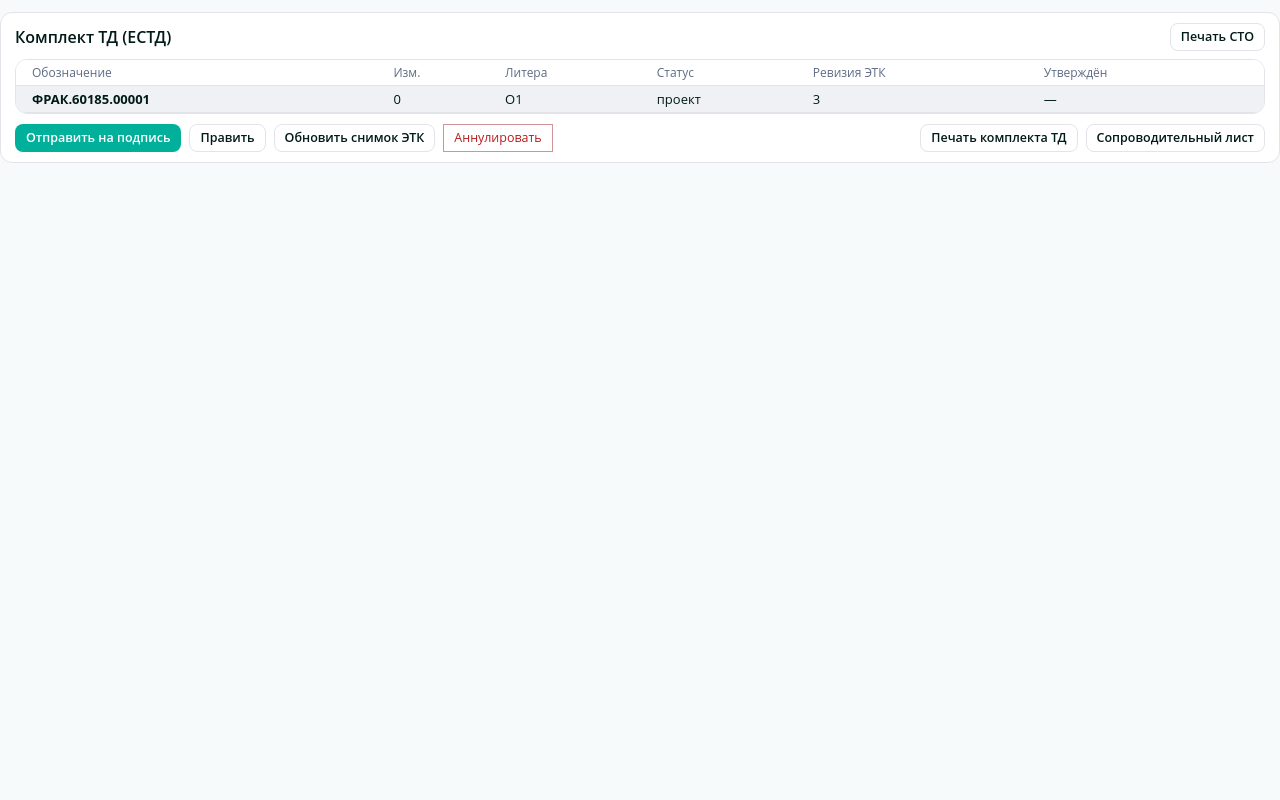
the form rejects a normcontroller who is also the developer
Click the button "Править" at (228,138), box [189,124,266,152]
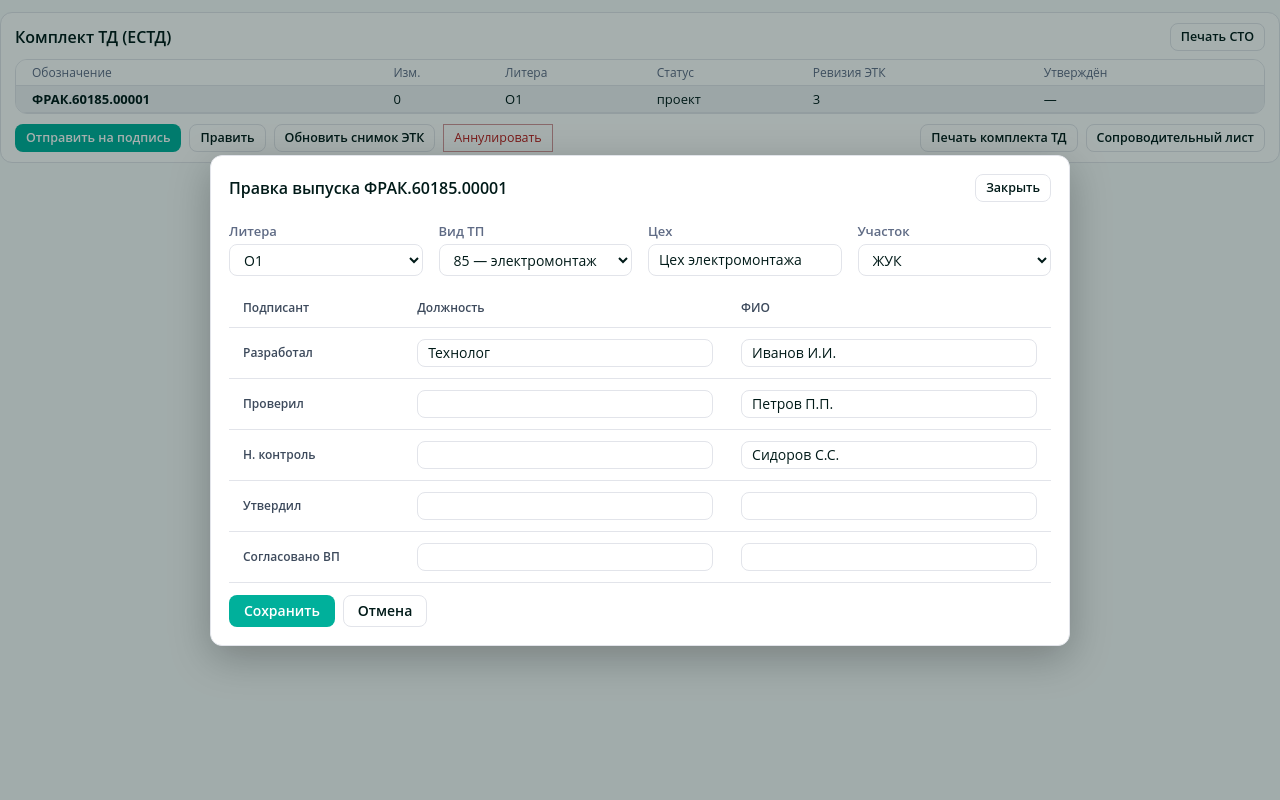
Replace the text in the field named "Н. контроль: ФИО" with "иванов и.и." at (889,454), box [741,440,1037,468]
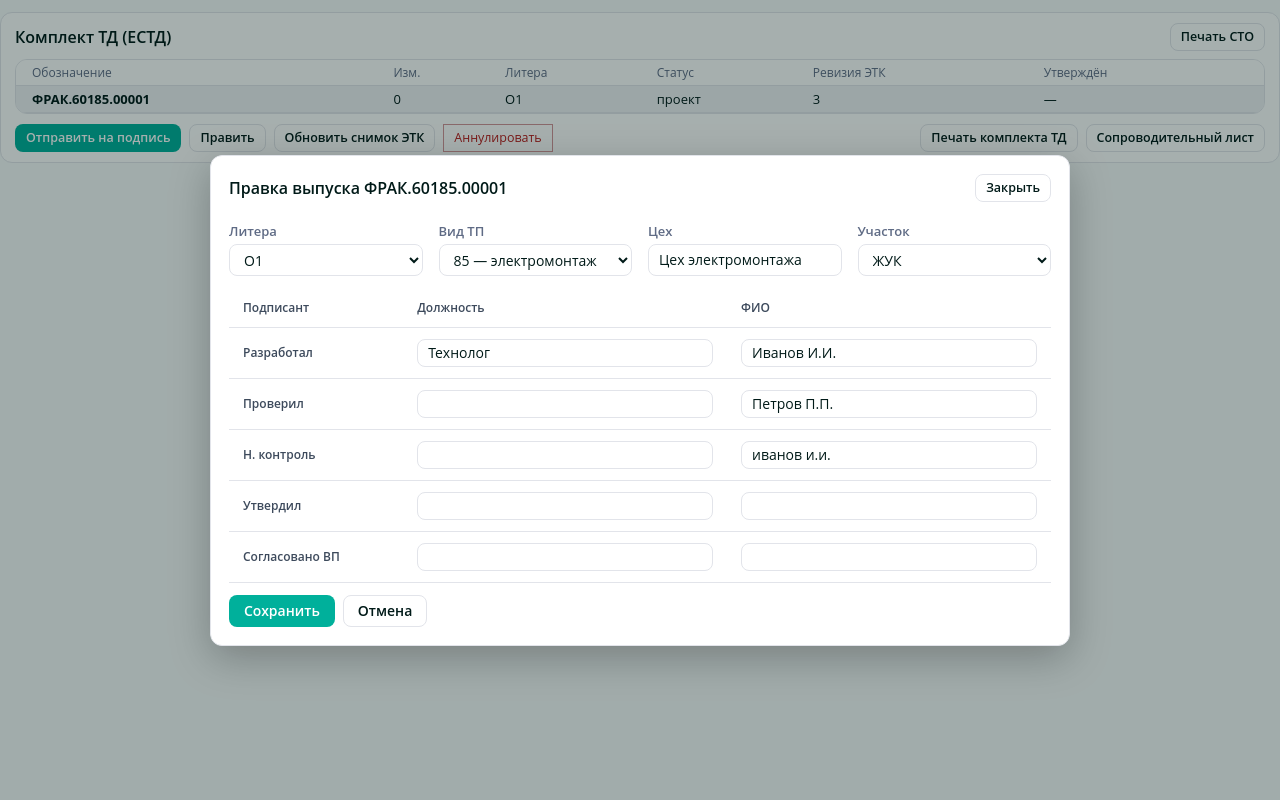
Click the button "Сохранить" at (282,610), box [229,594,335,626]
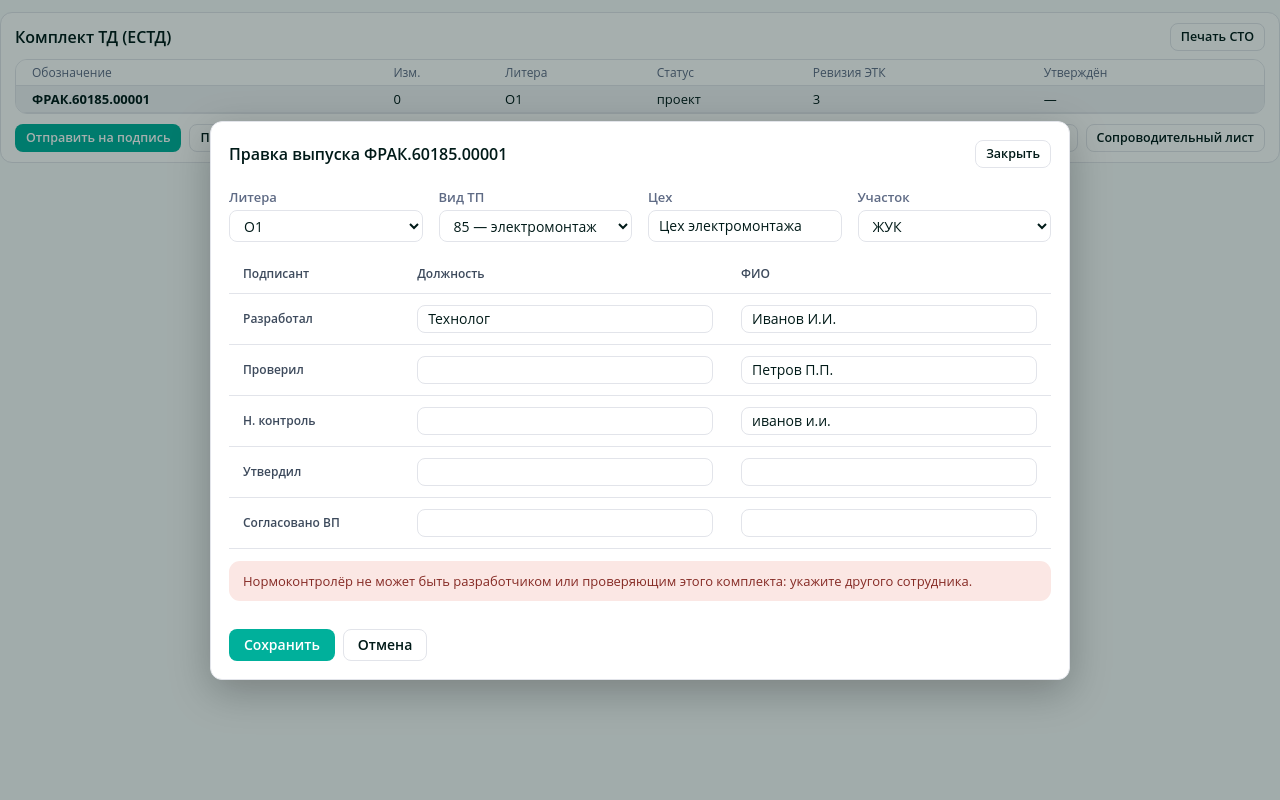
expect the text "Нормоконтролёр не может быть разработчиком" is shown: met, box [243,572,972,590]
